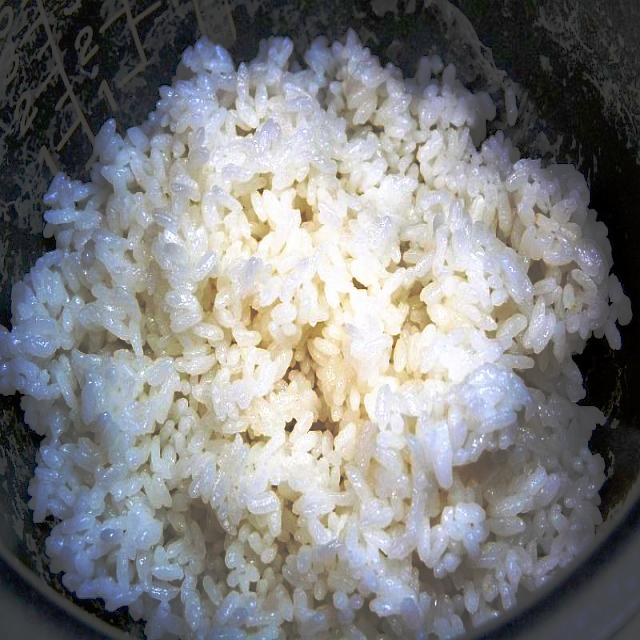rice: (0, 30, 632, 640)
